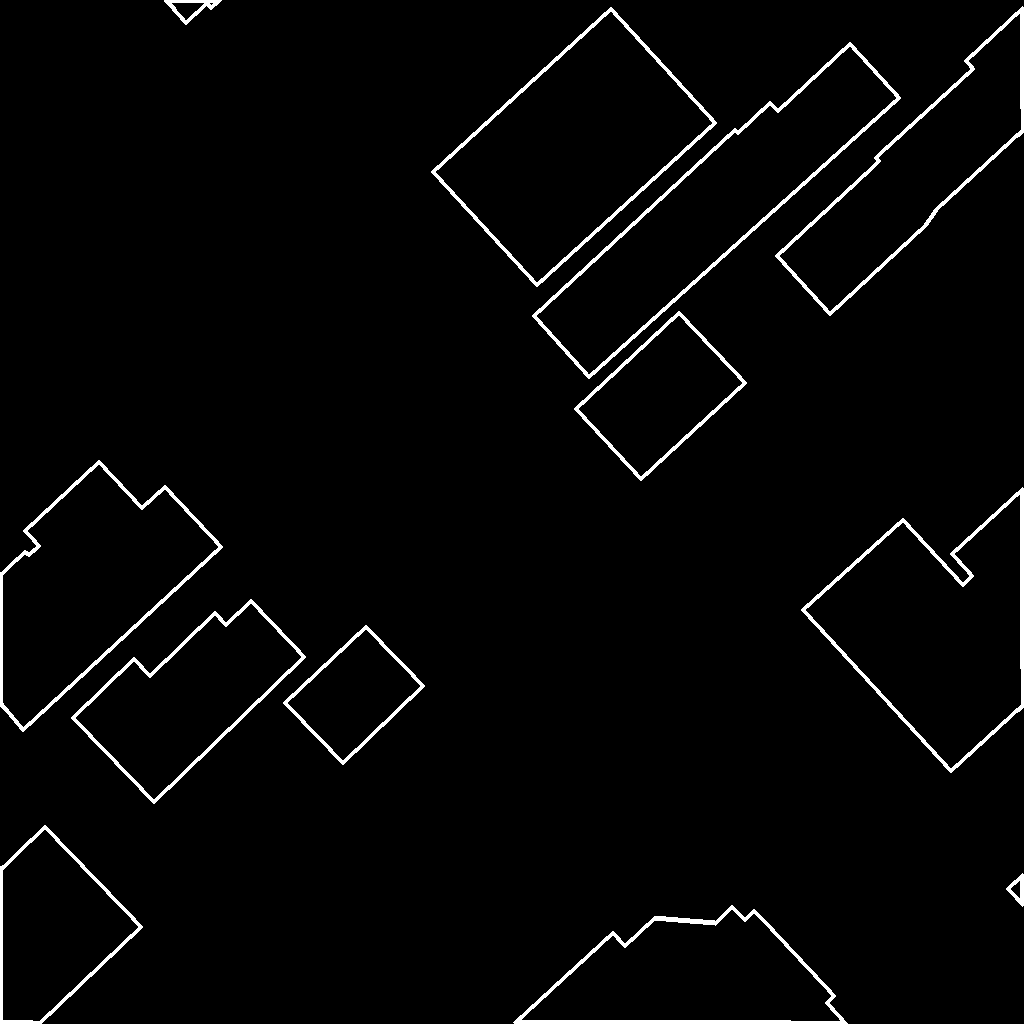building: (534, 44, 900, 378), (433, 9, 716, 286), (777, 8, 1024, 315), (803, 489, 1024, 772), (0, 462, 222, 731), (73, 601, 305, 803), (515, 907, 847, 1024), (576, 313, 746, 480), (0, 827, 142, 1024), (285, 627, 424, 764), (165, 0, 221, 24), (1008, 875, 1024, 906)
